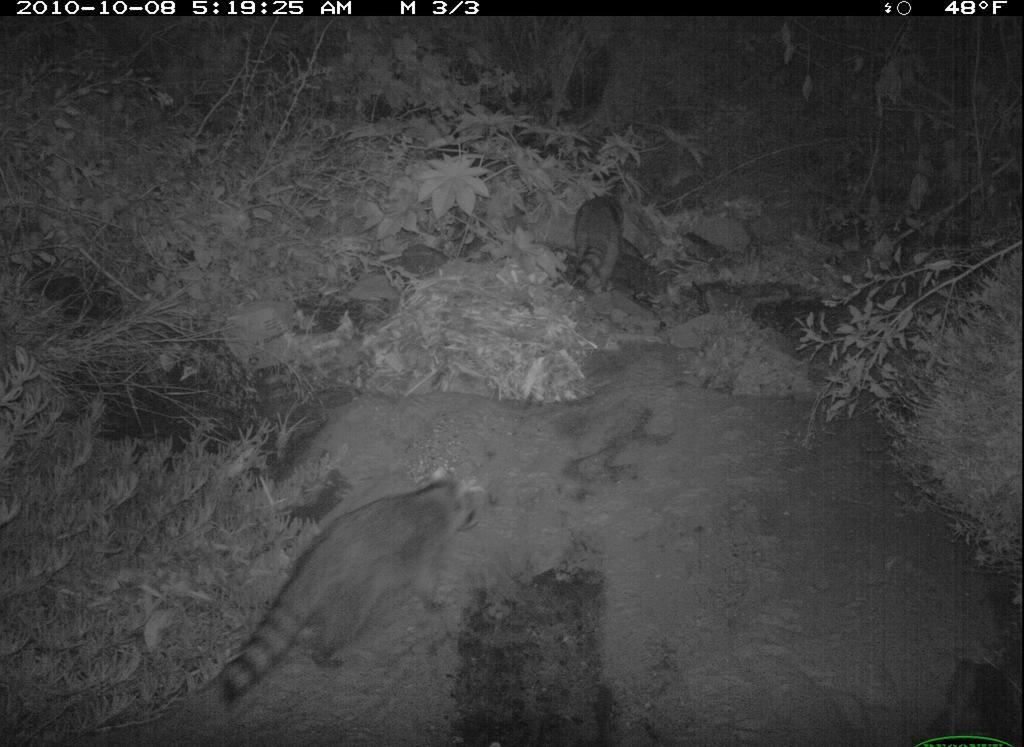raccoon: (205, 466, 486, 719), (557, 184, 642, 319)
